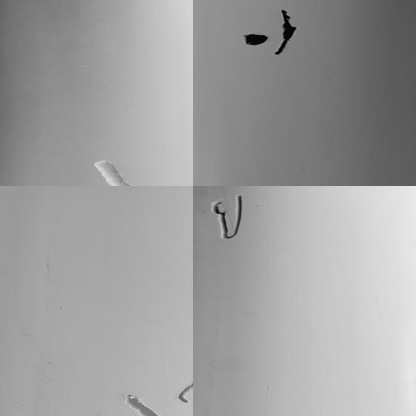fengxi: (207, 193, 246, 246), (176, 379, 191, 403)
kongdong: (278, 9, 299, 58), (243, 30, 266, 47)
sunshang: (93, 161, 130, 185), (123, 391, 157, 416)
